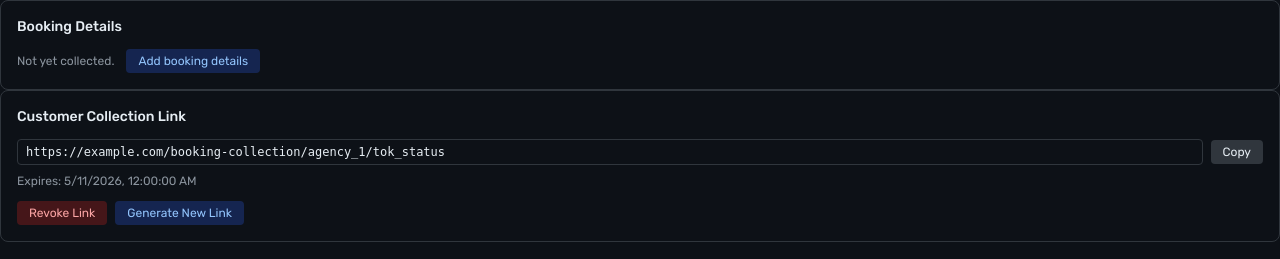
Test: DataIntakeZone › revoke clears URL that came from linkStatus (re-exposed after reload)
Click the button with test id "ops-revoke-link-btn". click: (62, 213)
box: [17, 201, 107, 225]
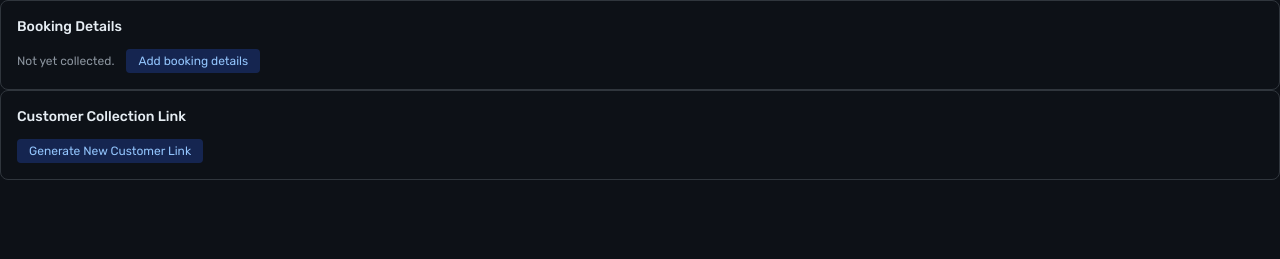
Expected: the element with test id "ops-link-info" is gone
Expected: the button with test id "ops-generate-link-btn" is shown, [17, 139, 203, 163]
